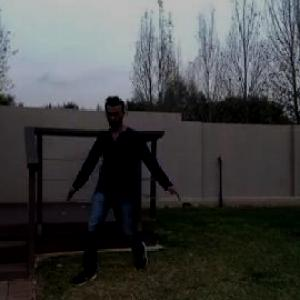land: (63, 91, 180, 292)
